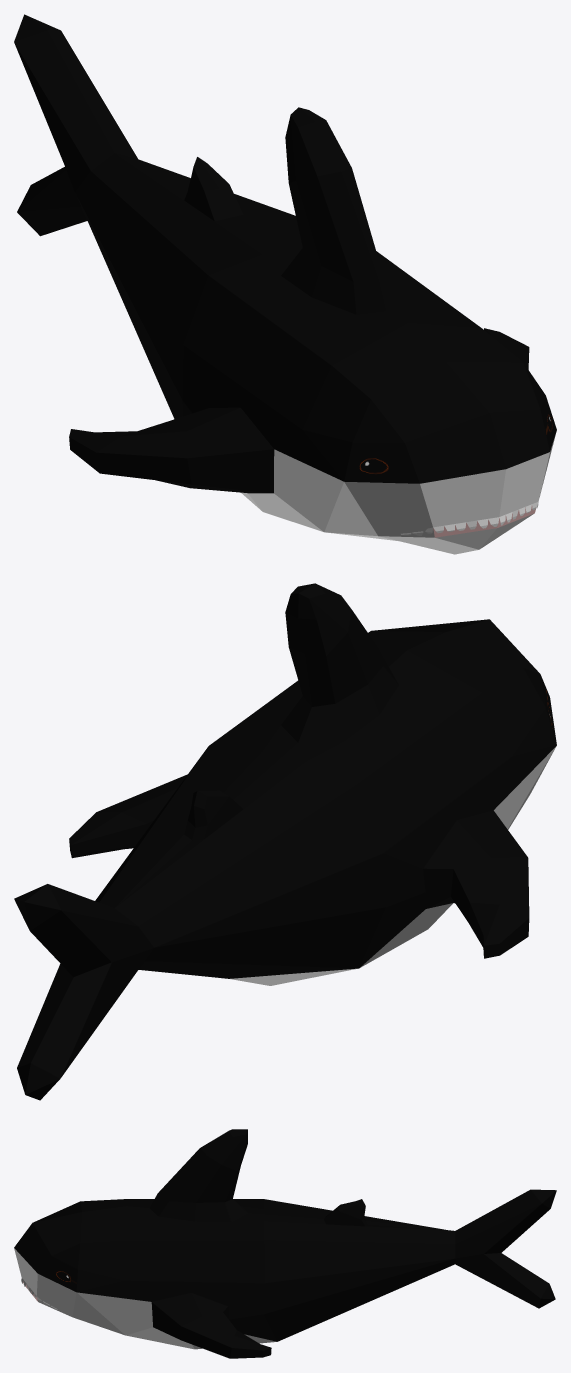
The model's file is Blahaj.glb.
3 views of the same model, one above another, from view 1: azimuth 30°, elevation 25°; view 2: azimuth 150°, elevation 25°; view 3: azimuth 270°, elevation 25° (orthographic). The views are drawn at different scales.
Visible parts, largest first — view 1: BlahajArtifacts; view 2: BlahajArtifacts; view 3: BlahajArtifacts.
Boxes of the visible parts, box(x1,y1,x2,y2) form: BlahajArtifacts: box(14, 14, 556, 554); BlahajArtifacts: box(14, 583, 556, 1100); BlahajArtifacts: box(14, 1129, 556, 1358).
Bounding box in the file's own units: 0.9815 × 0.8177 × 1.89.
3 materials, 1 textured.
